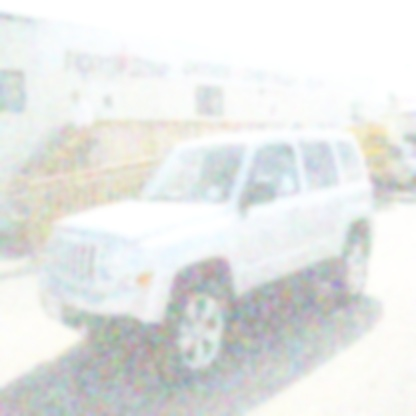Vehicle: (37, 130, 377, 386)
